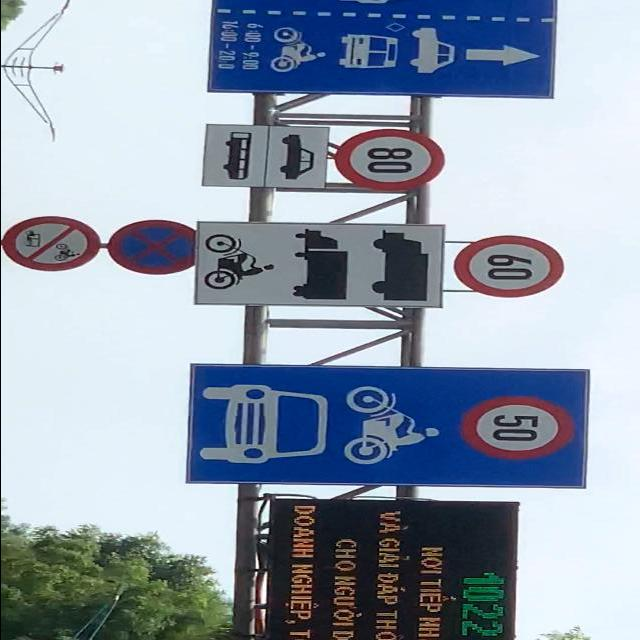P-127: (454, 235, 562, 298), (334, 131, 448, 189)
P-130: (108, 220, 196, 274)
